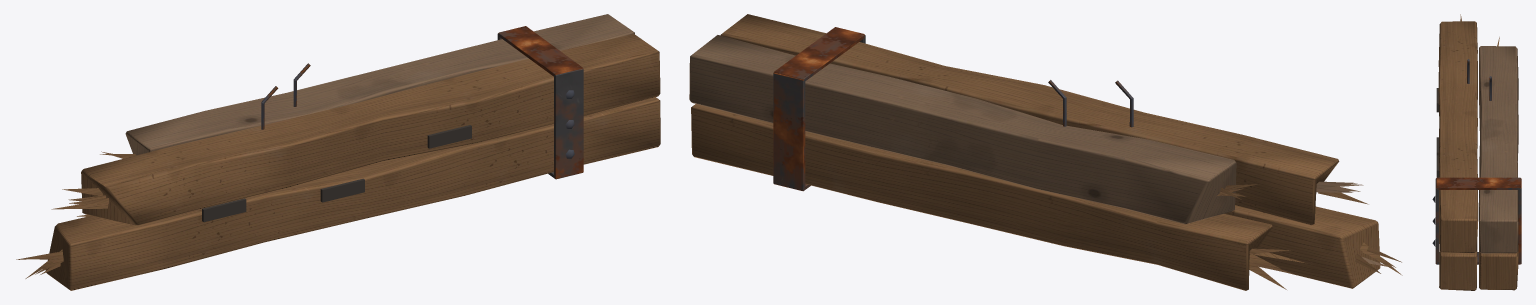
File: Broken_Beam.glb
The picture shows the model from 3 angles, left to right: view 1: azimuth 30°, elevation 25°; view 2: azimuth 150°, elevation 25°; view 3: azimuth 270°, elevation 25°; orthographic projection. The views are drawn at different scales.
Visible parts, largest first — view 1: Broken_Beam; view 2: Broken_Beam; view 3: Broken_Beam.
Part boxes in pixels (<box>): Broken_Beam: <box>16,14,660,290</box>; Broken_Beam: <box>689,14,1402,290</box>; Broken_Beam: <box>1432,14,1521,290</box>.
Bounding box in the file's own units: 2.66 × 0.5663 × 0.442.
4 materials, 3 textured.
